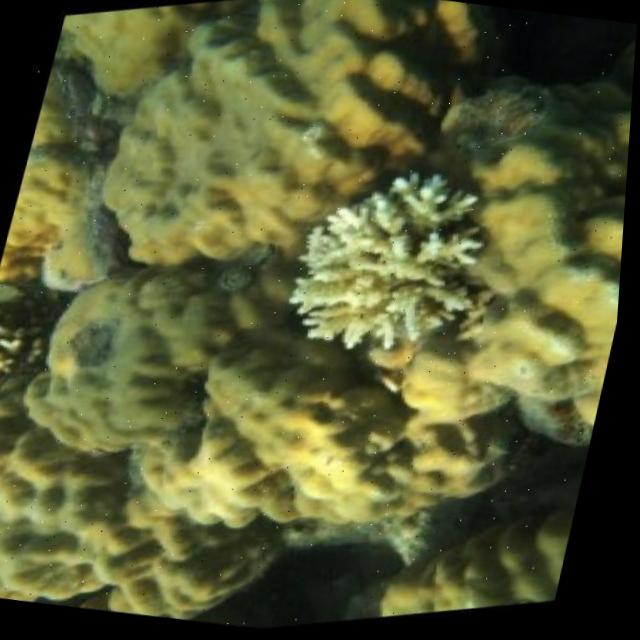Bleached Coral: (231, 126, 560, 405)
